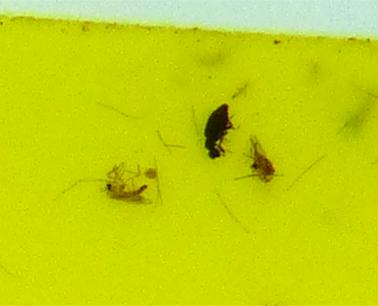Coleoptera: (195, 100, 237, 162)
Nematocera: (100, 164, 151, 206), (244, 135, 278, 186)
